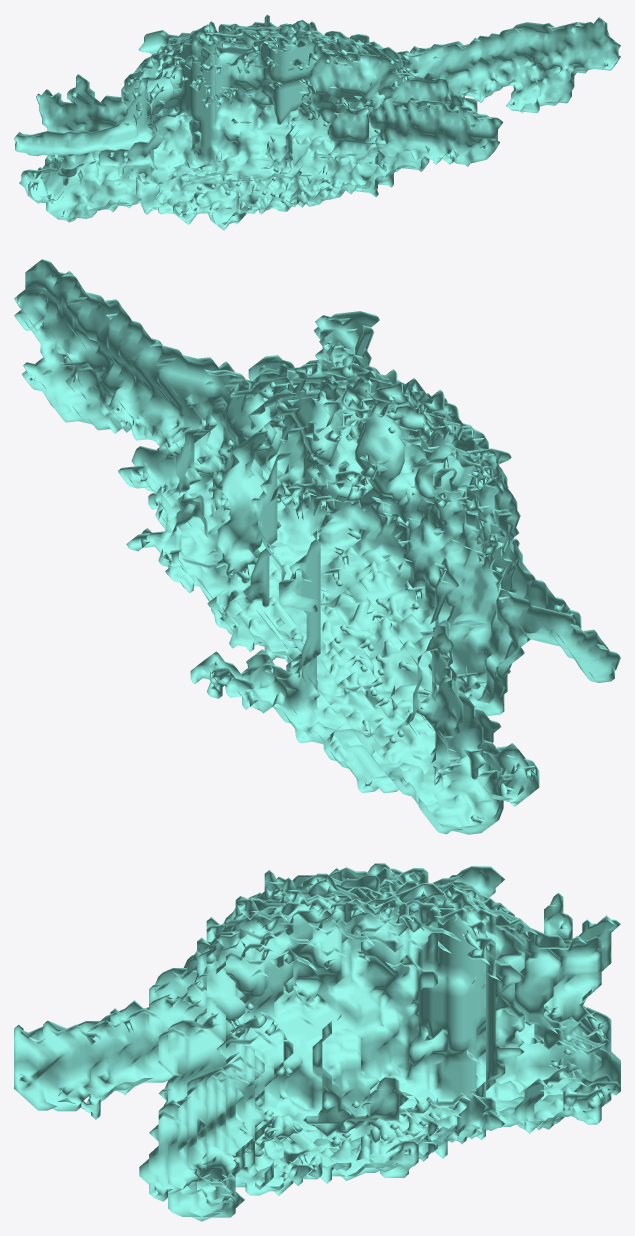
Rendered from osteocyte_36.glb.
3 views of the same model, one above another, from view 1: azimuth 30°, elevation 25°; view 2: azimuth 150°, elevation 25°; view 3: azimuth 270°, elevation 25° (orthographic). The views are drawn at different scales.
Parts seen in each view (by area): view 1: osteocyte_36; view 2: osteocyte_36; view 3: osteocyte_36.
Part boxes in pixels (bbox=[...]): osteocyte_36: bbox=[14, 14, 620, 230]; osteocyte_36: bbox=[14, 259, 620, 834]; osteocyte_36: bbox=[14, 863, 620, 1221].
Bounding box in the file's own units: 45.26 × 17.81 × 30.33.
